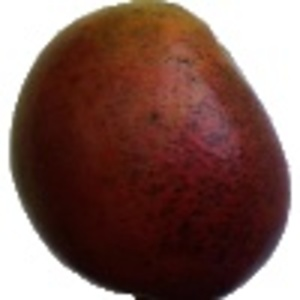manga: (9, 1, 292, 300)
